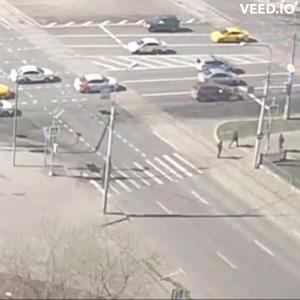car: (188, 85, 235, 109), (193, 53, 243, 71), (77, 75, 118, 96), (128, 40, 177, 57), (211, 27, 257, 45), (18, 66, 61, 85), (201, 72, 249, 89), (150, 17, 181, 35), (1, 100, 17, 119), (2, 84, 15, 100)
